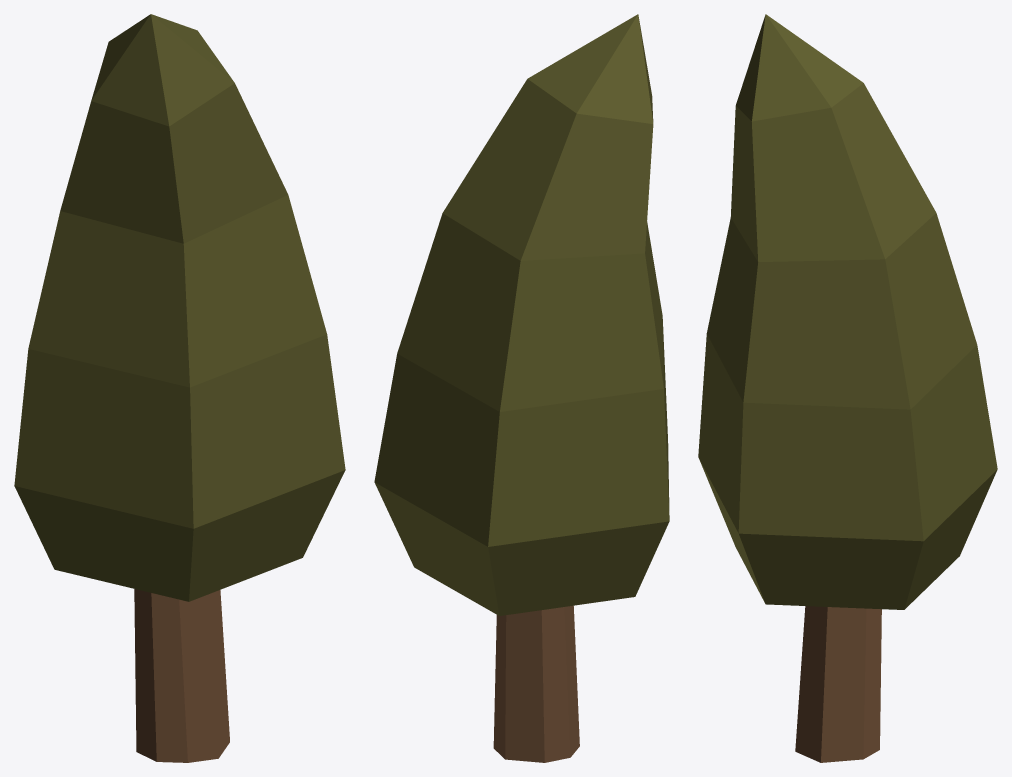
The model's file is Isl_6_Tree_2.fbx.
The picture shows the model from 3 angles, left to right: view 1: azimuth 30°, elevation 25°; view 2: azimuth 150°, elevation 25°; view 3: azimuth 270°, elevation 25°; orthographic projection. The views are drawn at different scales.
Parts seen in each view (by area): view 1: Isl_6_Tree_2; view 2: Isl_6_Tree_2; view 3: Isl_6_Tree_2.
Boxes of the visible parts, x1,y1,x2,y2 form: Isl_6_Tree_2: [14, 14, 345, 762]; Isl_6_Tree_2: [374, 14, 669, 762]; Isl_6_Tree_2: [698, 14, 997, 762].
Size of the model in its own units: 176 by 180 by 464.
1 material, 1 textured.
